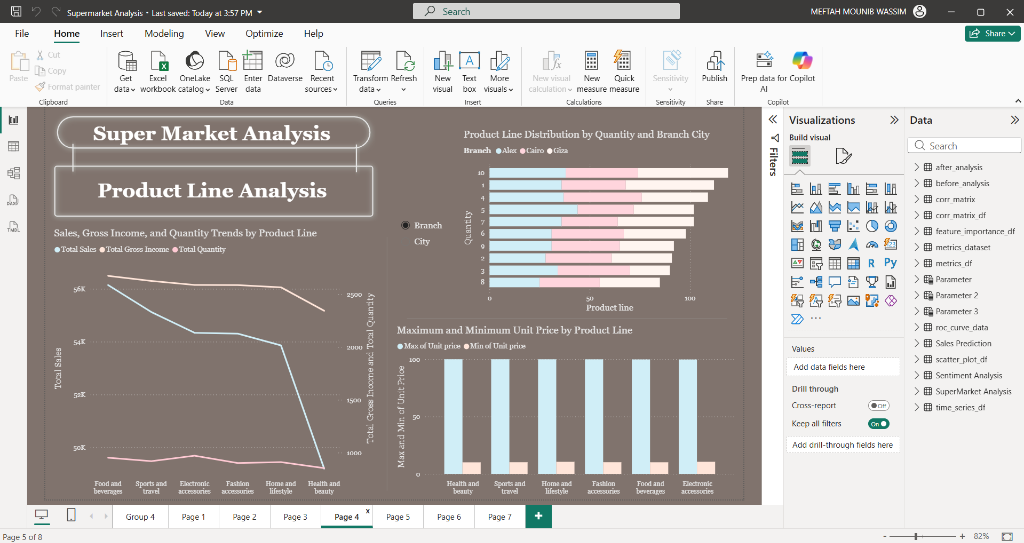

The dashboard page shown, as its layout file describes it:
{"tool":"powerbi","page":{"name":"Page 4","canvas":[1280,720],"ordinal":4},"visuals":[{"type":"shape","box":[7,98.1,602.9,111.4],"z":0,"group":"g2"},{"type":"lineChart","title":"Sales, Gross Income, and Quantity Trends by Product Line","fields":{"Category":["SuperMarket Analysis.Product line"],"Y":["Sum(SuperMarket Analysis.Sales)"],"Y2":["Sum(SuperMarket Analysis.gross income)","Sum(SuperMarket Analysis.Quantity)"]},"box":[11.4,221.4,598.6,498.6],"z":0},{"type":"textbox","box":[26.5,126.2,557.8,56.4],"z":1000,"group":"g2"},{"type":"clusteredColumnChart","title":"Maximum and Minimum Unit Price by Product Line","fields":{"Category":["SuperMarket Analysis.Product line"],"Y":["Max(SuperMarket Analysis.Unit price)","Min(SuperMarket Analysis.Unit price)"]},"box":[640,398.6,630,321.4],"z":1000},{"type":"group","id":"g1","title":"Group 3","box":[7,8.1,602.9,201.4],"z":2000},{"type":"barChart","title":"Product Line Distribution by Quantity and Branch City","fields":{"Series":["SuperMarket Analysis.Branch"],"Y":["CountNonNull(SuperMarket Analysis.Product line)"],"Category":["SuperMarket Analysis.Quantity"]},"box":[761.4,40,508.6,341.4],"z":3000},{"type":"slicer","fields":{"Values":["Parameter 3.Parameter"]},"box":[640,198.6,121.4,70],"z":4000},{"type":"shape","box":[662.9,381.4,587.1,12.9],"z":5000},{"type":"shape","box":[620,238.6,12.9,465.7],"z":6000},{"type":"shape","box":[11.3,8.1,592.9,77.1],"z":7000,"group":"g1"},{"type":"textbox","box":[48.4,21,512.9,64.3],"z":8000,"group":"g1"},{"type":"group","id":"g2","title":"Group 1","box":[7,98.1,602.9,111.4],"z":9000,"group":"g1"},{"type":"shape","box":[41.3,59.5,14.3,67.1],"z":10000,"group":"g1"},{"type":"shape","box":[561.3,61,15.7,67.1],"z":11000,"group":"g1"}]}

Visuals, with their boxes on the page's 1280x720 design canvas (x1, y1, x2, y2). These are canvas units, not pixel positions in the 1024x543 screenshot, which may show the page scaled, cropped or inside an application window:
shape: 7,98,610,210
"Sales, Gross Income, and Quantity Trends by Product Line" lineChart: 11,221,610,720
textbox: 26,126,584,183
"Maximum and Minimum Unit Price by Product Line" clusteredColumnChart: 640,399,1270,720
"Group 3" group: 7,8,610,210
"Product Line Distribution by Quantity and Branch City" barChart: 761,40,1270,381
slicer - Parameter 3.Parameter: 640,199,761,269
shape: 663,381,1250,394
shape: 620,239,633,704
shape: 11,8,604,85
textbox: 48,21,561,85
"Group 1" group: 7,98,610,210
shape: 41,60,56,127
shape: 561,61,577,128
